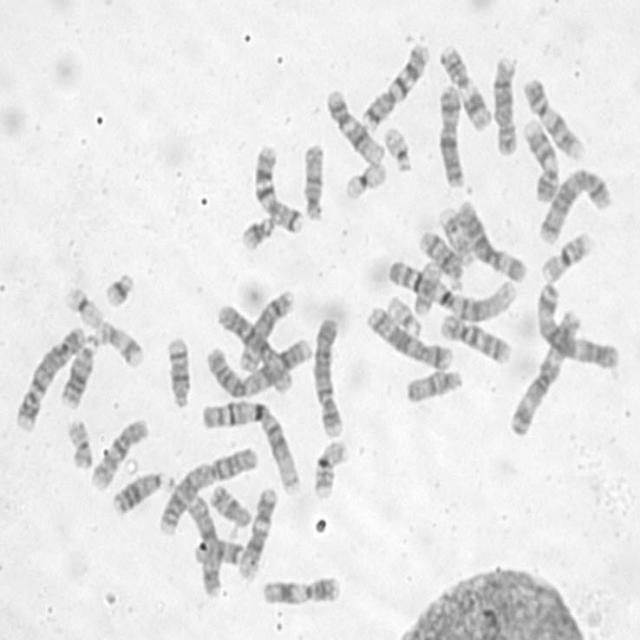A1: (198, 394, 302, 494), (385, 255, 519, 322)
A2: (155, 443, 258, 537), (202, 331, 314, 397)
A3: (506, 303, 584, 437), (532, 278, 622, 370)
B4: (10, 319, 87, 433), (310, 312, 346, 438)
B5: (362, 299, 456, 371), (534, 162, 614, 246)
C10: (88, 414, 150, 492), (436, 308, 514, 366)
C11: (436, 39, 494, 132), (258, 572, 342, 608)
C12: (323, 83, 386, 166), (237, 482, 279, 580)
C6: (212, 298, 294, 395), (454, 194, 529, 283)
C7: (358, 37, 432, 131), (250, 140, 306, 235)
C8: (237, 282, 297, 374), (489, 50, 520, 157)
C9: (520, 72, 587, 162), (519, 112, 562, 203)
D13: (56, 331, 100, 409), (108, 466, 176, 516)
D14: (414, 224, 466, 290), (164, 331, 193, 409)
D15: (402, 364, 465, 404), (299, 139, 326, 223)
E16: (537, 227, 594, 284), (310, 435, 350, 500)
E17: (92, 316, 146, 370), (436, 202, 476, 267)
E18: (206, 478, 253, 528), (190, 535, 247, 567)
F19: (61, 281, 106, 330), (341, 155, 388, 201)
F20: (411, 255, 444, 317), (62, 413, 96, 471)
G21: (236, 210, 277, 252), (101, 266, 137, 309)
G22: (384, 290, 424, 337), (380, 120, 414, 172)
X: (183, 489, 224, 599), (433, 79, 468, 189)
